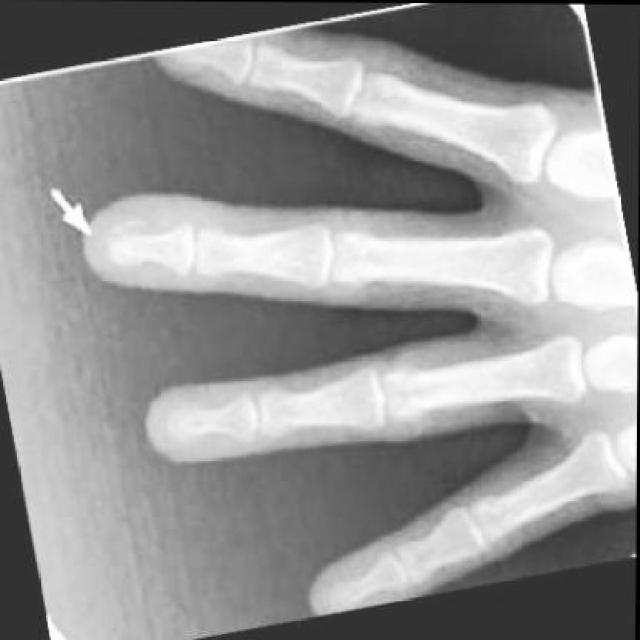Fracture: (68, 208, 170, 293)
